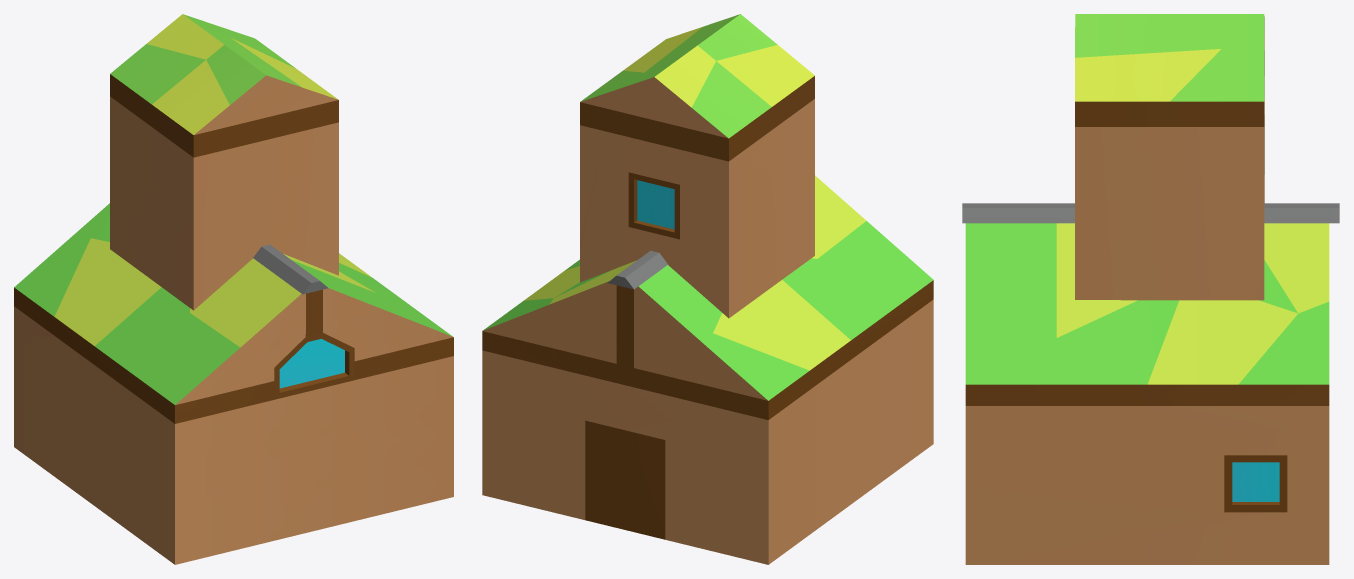
The model's file is Harbor1.fbx.
3 renders of one model, left to right at view 1: azimuth 30°, elevation 25°; view 2: azimuth 150°, elevation 25°; view 3: azimuth 270°, elevation 25°, orthographic. The views are drawn at different scales.
Parts seen in each view (by area): view 1: Harbor1Building1, Harbor1Building3; view 2: Harbor1Building1, Harbor1Building3; view 3: Harbor1Building1, Harbor1Building3.
Part boxes in pixels (x1,y1,x2,y2): Harbor1Building1: (14,203,453,564); Harbor1Building3: (110,14,338,310); Harbor1Building1: (482,175,933,564); Harbor1Building3: (580,14,814,318); Harbor1Building1: (962,203,1339,564); Harbor1Building3: (1075,14,1264,300).
Size of the model in its own units: 156 by 161 by 224.
